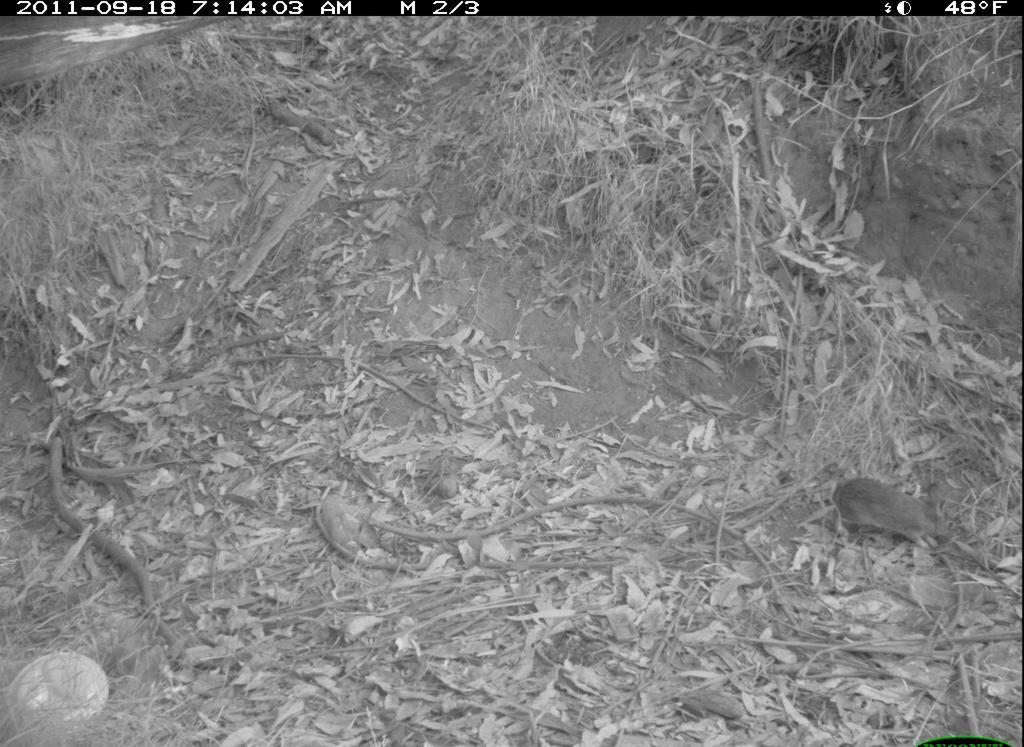rabbit: (818, 456, 984, 564)
